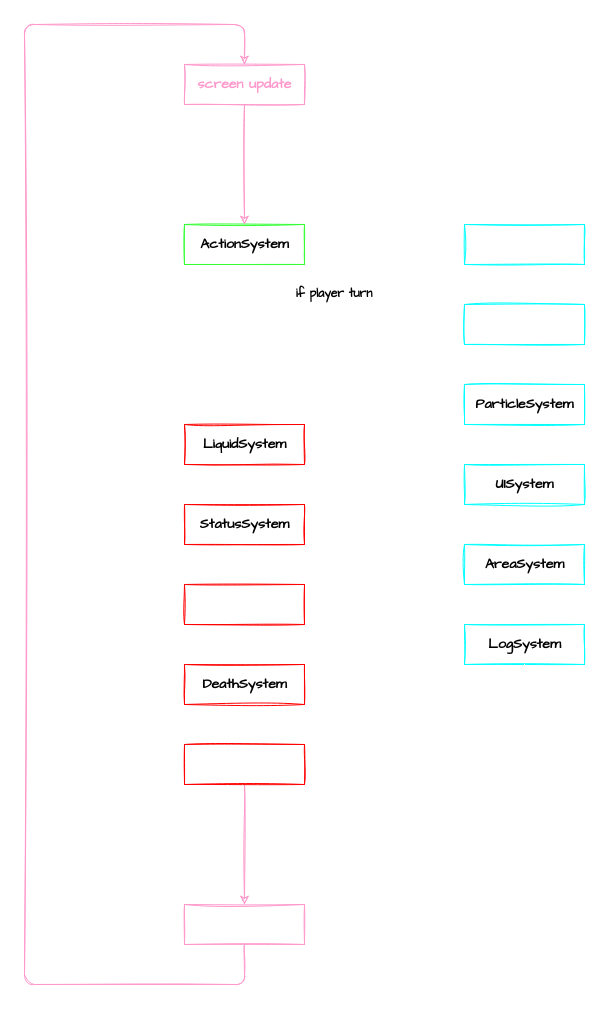
Image size: 602x1010. Some labels were removed from this diagram. The centre of each missing label's shape, as x and y in pixels:
AbilitySystem: the point at 244,604
DestroySystem: the point at 244,764
FOVSystem: the point at 524,244
render update: the point at 244,924
RenderSystem: the point at 524,324
